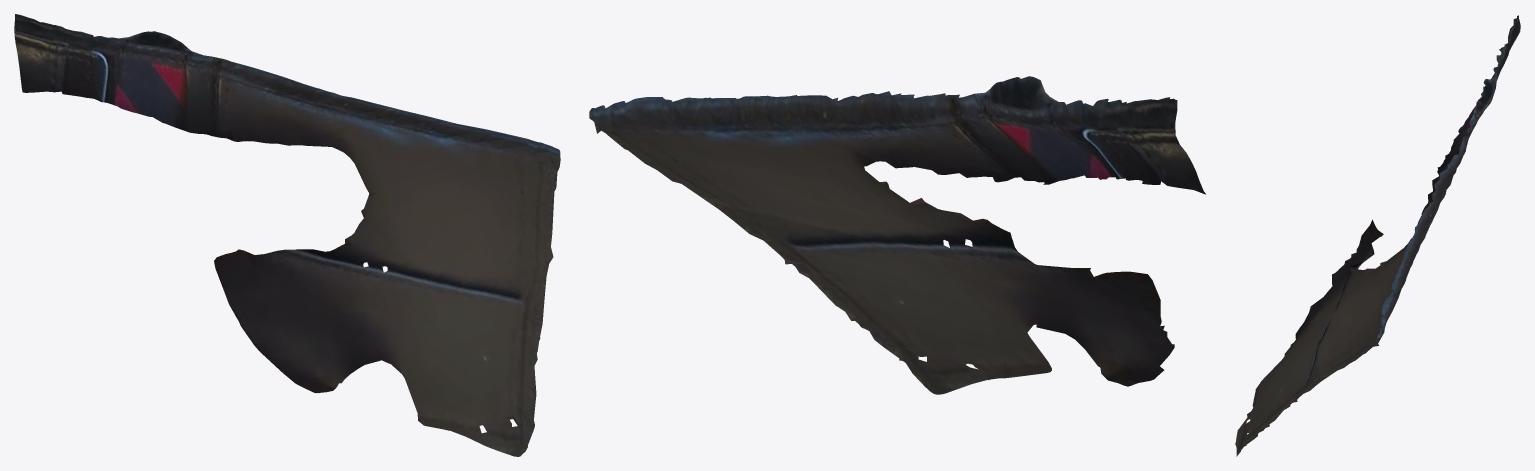
The model's file is observed-surface.glb.
The picture shows the model from 3 angles, left to right: view 1: azimuth 30°, elevation 25°; view 2: azimuth 150°, elevation 25°; view 3: azimuth 270°, elevation 25°; orthographic projection. The views are drawn at different scales.
Visible parts, largest first — view 1: geometry_0; view 2: geometry_0; view 3: geometry_0.
Part boxes in pixels (<box>): geometry_0: <box>14,14,560,456</box>; geometry_0: <box>589,76,1205,394</box>; geometry_0: <box>1235,15,1520,456</box>.
Size of the model in its own units: 0.5773 by 0.4699 by 0.3864.
Materials: 1 (1 with a texture image).
